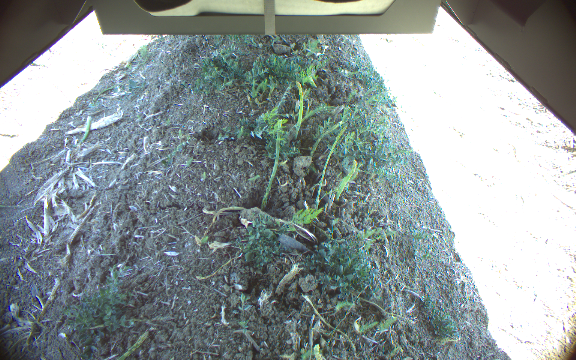aspa: (334, 159, 358, 199), (294, 80, 305, 129)
